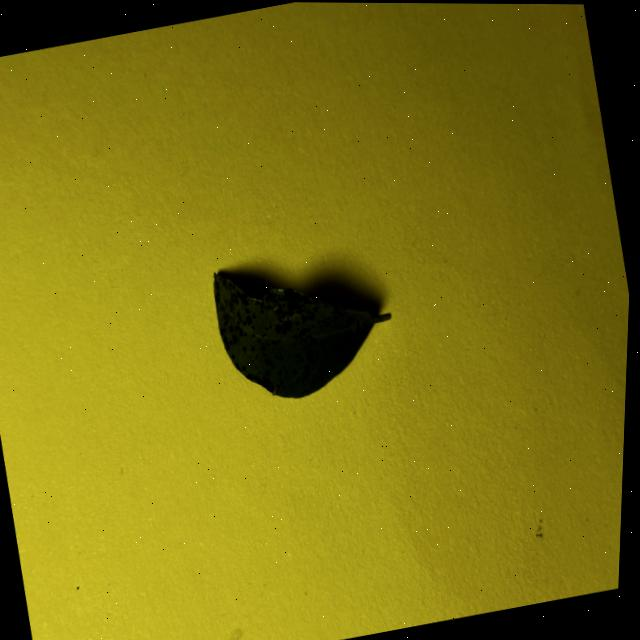sooty_mold: (214, 273, 390, 397)
